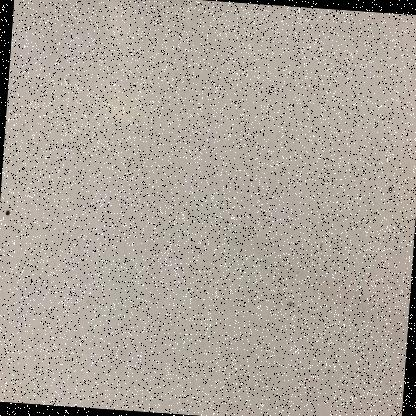Nocrack: (4, 0, 396, 414)
